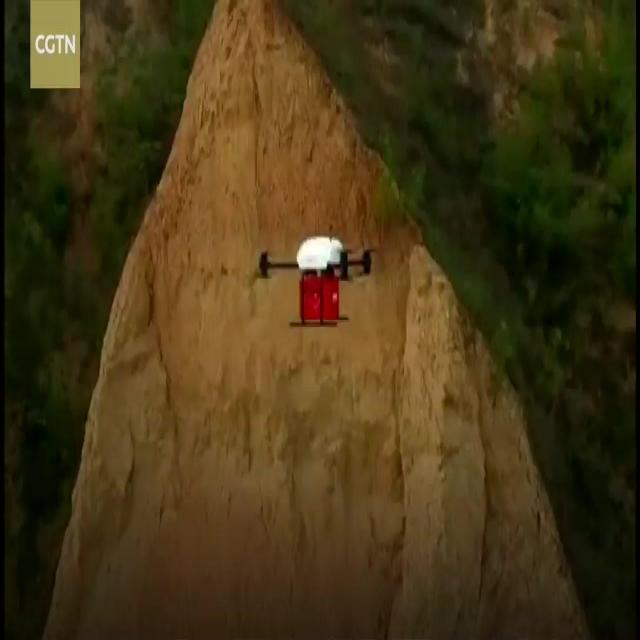UAV: (258, 236, 376, 281)
